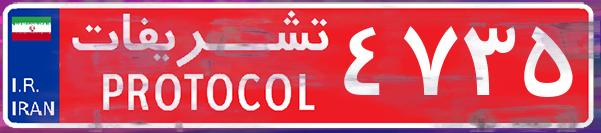3: (460, 20, 520, 115)
4: (340, 20, 400, 115)
5: (520, 20, 580, 115)
7: (400, 20, 460, 115)
تشریفات: (60, 8, 340, 125)
